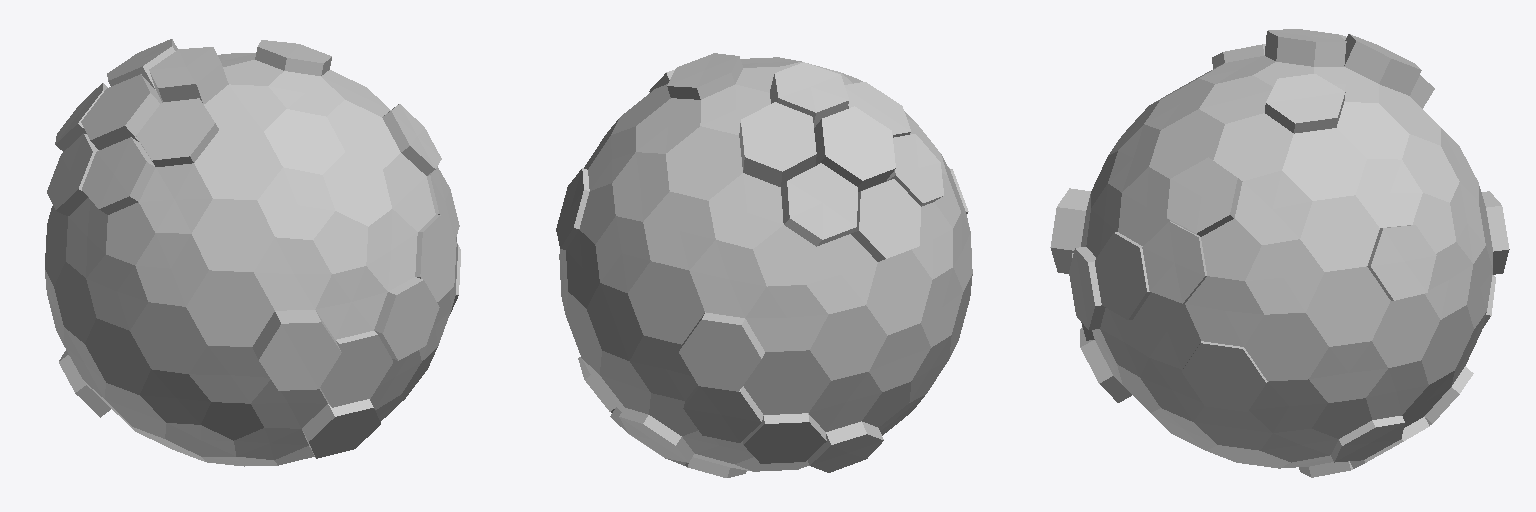
File: Planet.obj
3 renders of one model, left to right at view 1: azimuth 30°, elevation 25°; view 2: azimuth 150°, elevation 25°; view 3: azimuth 270°, elevation 25°, orthographic.
Parts seen in each view (by area): view 1: GD_mesh.001; view 2: GD_mesh.001; view 3: GD_mesh.001.
Boxes of the visible parts, x1=… form: GD_mesh.001: x1=45, y1=39, x2=460, y2=466; GD_mesh.001: x1=556, y1=53, x2=972, y2=477; GD_mesh.001: x1=1050, y1=29, x2=1509, y2=477.
Size of the model in its own units: 29.6 by 32.18 by 33.14.